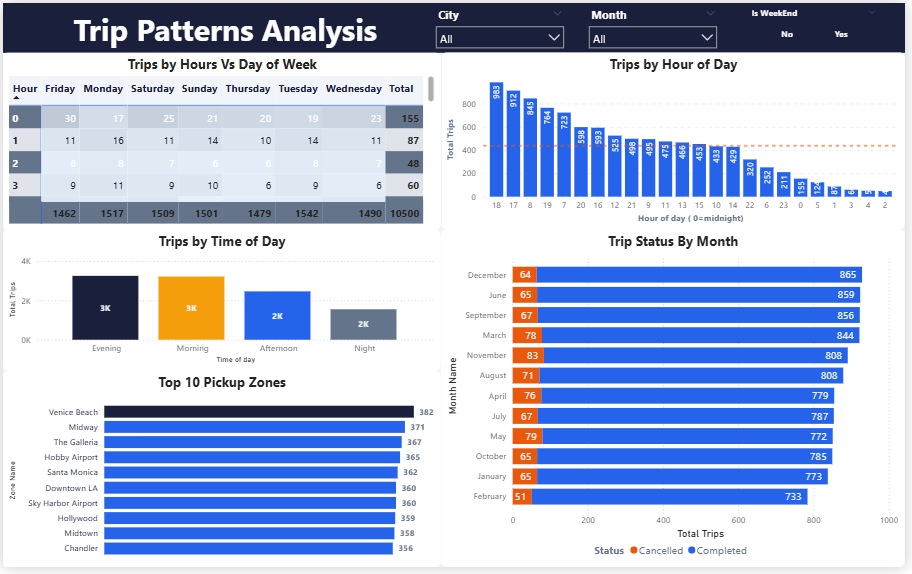

This screenshot's page, from the dashboard's own definition file:
{"tool":"powerbi","page":{"name":"Trip Patterns Analysis","canvas":[1280,800],"ordinal":1},"visuals":[{"type":"shape","box":[0,0,1280.6,71],"z":0},{"type":"slicer","fields":{"Values":["locations.city"]},"box":[604.4,0,201.5,68.9],"z":1000},{"type":"pivotTable","title":"Trips by Hours Vs  Day of Week","fields":{"Rows":["trips.hour_of_day"],"Columns":["trips.day_of_week"],"Values":["Count(trips.trip_id)"]},"box":[0,70.4,621,251.8],"z":2000},{"type":"clusteredColumnChart","title":"Trips by Hour of Day","fields":{"Category":["trips.hour_of_day"],"Y":["_Measures (2).total_trips"]},"box":[621,70.4,658.5,251.8],"z":3000},{"type":"clusteredColumnChart","title":"Trips by Time of Day","fields":{"Category":["trips.time_of_day"],"Y":["_Measures (2).total_trips"]},"box":[0,321.7,620.3,199.7],"z":4000},{"type":"barChart","title":"Trip Status By Month","fields":{"Category":["date_table.Month Name"],"Y":["_Measures (2).total_trips"],"Series":["trips.status"]},"box":[622.1,321.7,657.5,479],"z":5000},{"type":"barChart","title":"Top 10 Pickup Zones","fields":{"Category":["locations.zone_name"],"Y":["Count(trips.trip_id)"]},"box":[0,521.4,620.3,279.2],"z":6000},{"type":"slicer","fields":{"Values":["date_table.Month Name"]},"box":[821.8,0,201.5,68.9],"z":7000},{"type":"slicer","fields":{"Values":["trips.is_weekend"]},"box":[1048,0,201.5,68.9],"z":8000}]}

Visuals, with their boxes in screenshot pixels (x1, y1, x2, y2), scaled from the page's 1280x800 canvas onto the 912x574 screenshot:
shape: box=[0, 0, 911, 51]
slicer - locations.city: box=[431, 0, 574, 49]
"Trips by Hours Vs  Day of Week" pivotTable: box=[0, 51, 442, 231]
"Trips by Hour of Day" clusteredColumnChart: box=[442, 51, 911, 231]
"Trips by Time of Day" clusteredColumnChart: box=[0, 231, 442, 374]
"Trip Status By Month" barChart: box=[443, 231, 911, 573]
"Top 10 Pickup Zones" barChart: box=[0, 374, 442, 573]
slicer - date_table.Month Name: box=[586, 0, 729, 49]
slicer - trips.is_weekend: box=[747, 0, 890, 49]
